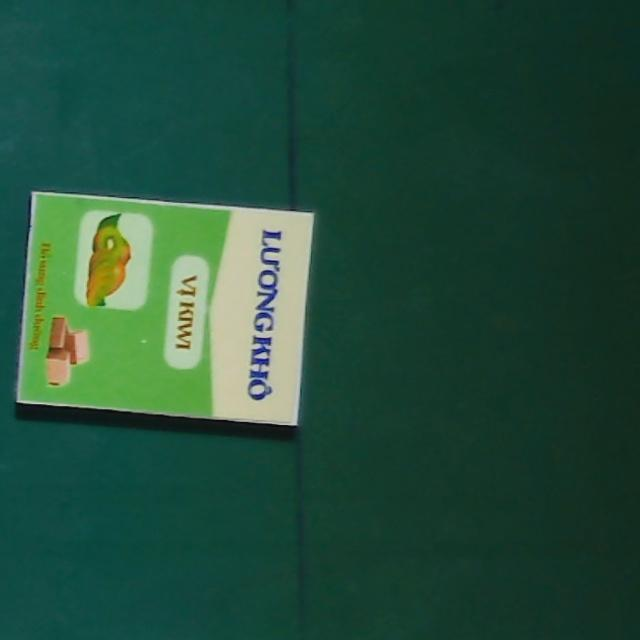kiwi: (15, 191, 313, 425)
